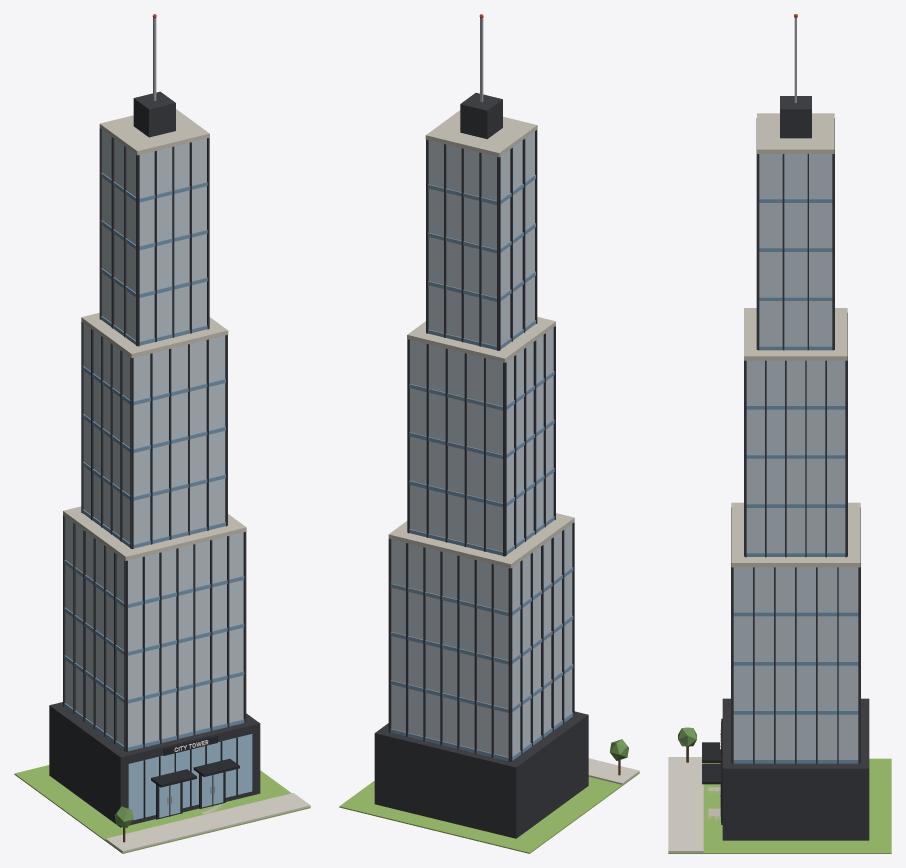
File: Buro_is_kulesi_1_Hafif.fbx
3 renders of one model, left to right at view 1: azimuth 30°, elevation 25°; view 2: azimuth 150°, elevation 25°; view 3: azimuth 270°, elevation 25°, orthographic. The views are drawn at different scales.
Visible parts, largest first — view 1: Buro_is_kulesi_1_Hafif; view 2: Buro_is_kulesi_1_Hafif; view 3: Buro_is_kulesi_1_Hafif.
Part boxes in pixels (<box>): Buro_is_kulesi_1_Hafif: <box>14,14,310,853</box>; Buro_is_kulesi_1_Hafif: <box>339,14,639,853</box>; Buro_is_kulesi_1_Hafif: <box>668,14,891,853</box>.
Size of the model in its own units: 14 by 54.95 by 14.
